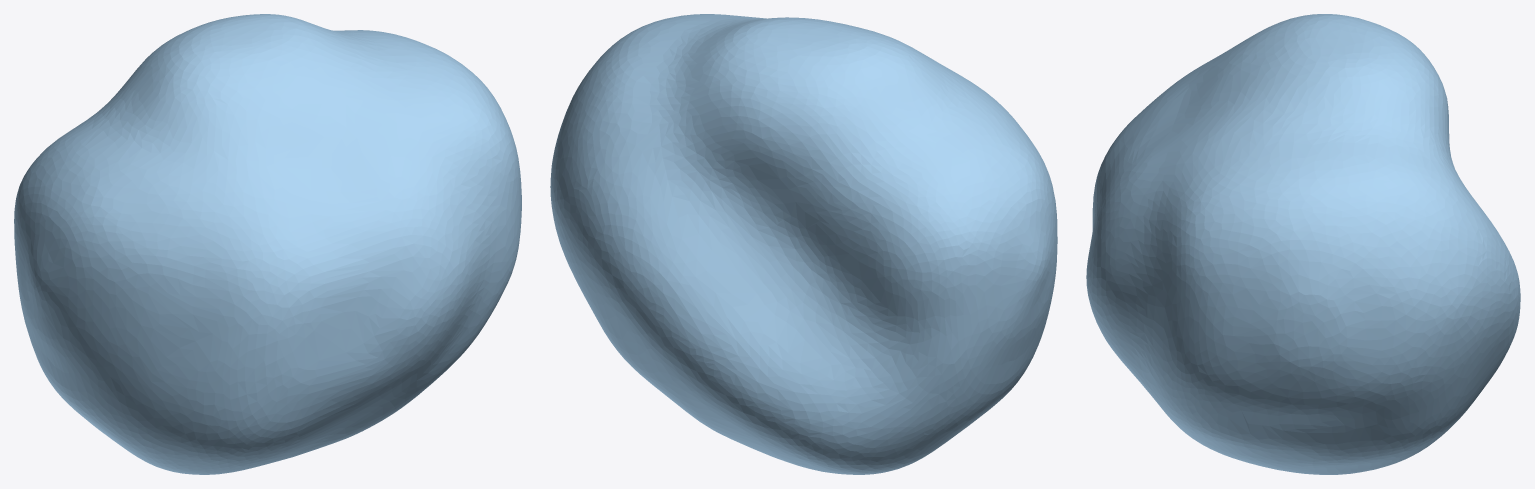
The picture shows the model from 3 angles, left to right: view 1: azimuth 30°, elevation 25°; view 2: azimuth 150°, elevation 25°; view 3: azimuth 270°, elevation 25°; orthographic projection. The views are drawn at different scales.
Visible parts, largest first — view 1: world; view 2: world; view 3: world.
Part boxes in pixels (box(x1,y1,x2,y2)): world: box(14, 14, 521, 474); world: box(550, 14, 1057, 474); world: box(1086, 14, 1520, 474).
Size of the model in its own units: 0.9613 by 0.8185 by 0.7655.
